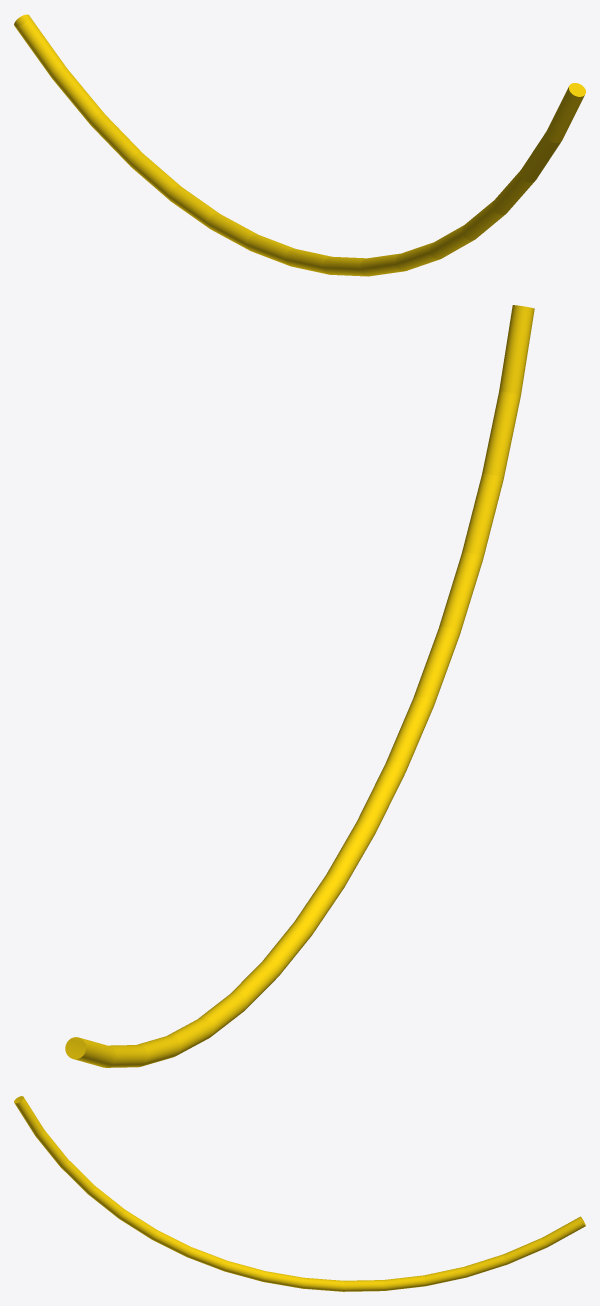
Rendered from Event_421115418_track_88.fbx.
The picture shows the model from 3 angles, top to bottom: view 1: azimuth 30°, elevation 25°; view 2: azimuth 150°, elevation 25°; view 3: azimuth 270°, elevation 25°; orthographic projection. The views are drawn at different scales.
Visible parts, largest first — view 1: Model; view 2: Model; view 3: Model.
Boxes of the visible parts, x1,y1,x2,y2 form: Model: [14, 14, 585, 276]; Model: [65, 305, 534, 1067]; Model: [14, 1096, 585, 1291].
Bounding box in the file's own units: 0.2804 × 0.8391 × 2.05.
